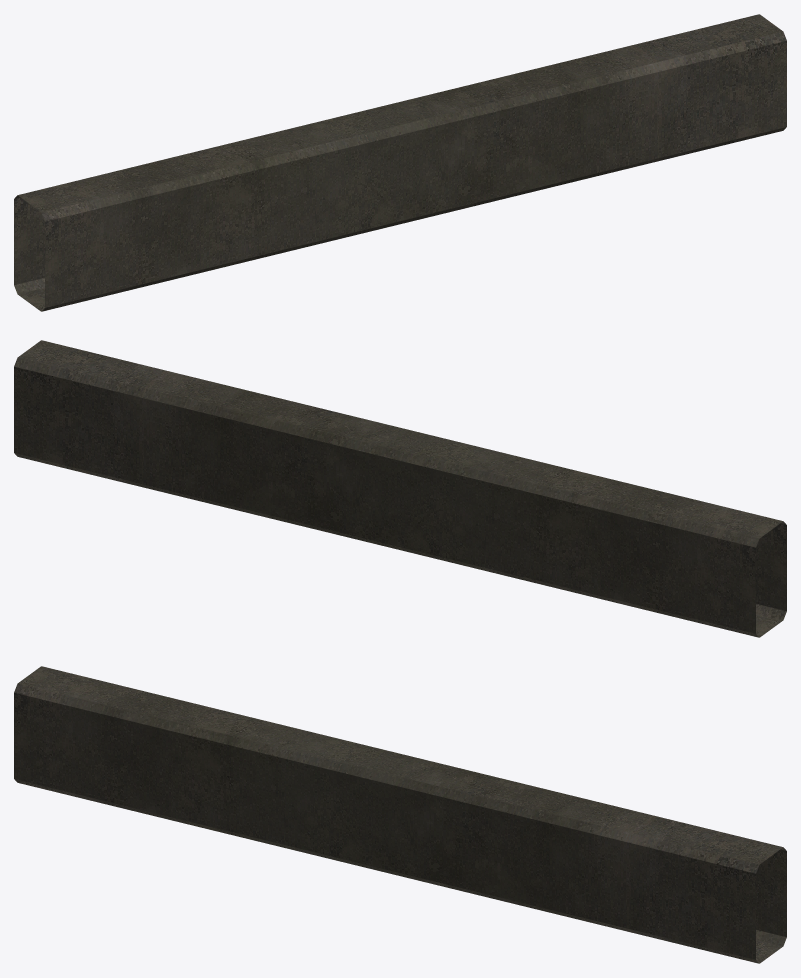
Rendered from beam_1.glb.
3 views of the same model, one above another, from view 1: azimuth 30°, elevation 25°; view 2: azimuth 150°, elevation 25°; view 3: azimuth 330°, elevation 25° (orthographic).
Parts seen in each view (by area): view 1: beam_1; view 2: beam_1; view 3: beam_1.
Part boxes in pixels (x1,y1,x2,y2): beam_1: [14, 14, 786, 311]; beam_1: [14, 340, 786, 637]; beam_1: [14, 666, 786, 963].
Bounding box in the file's own units: 3.6 × 0.46 × 0.26.
Materials: 1 (1 with a texture image).
